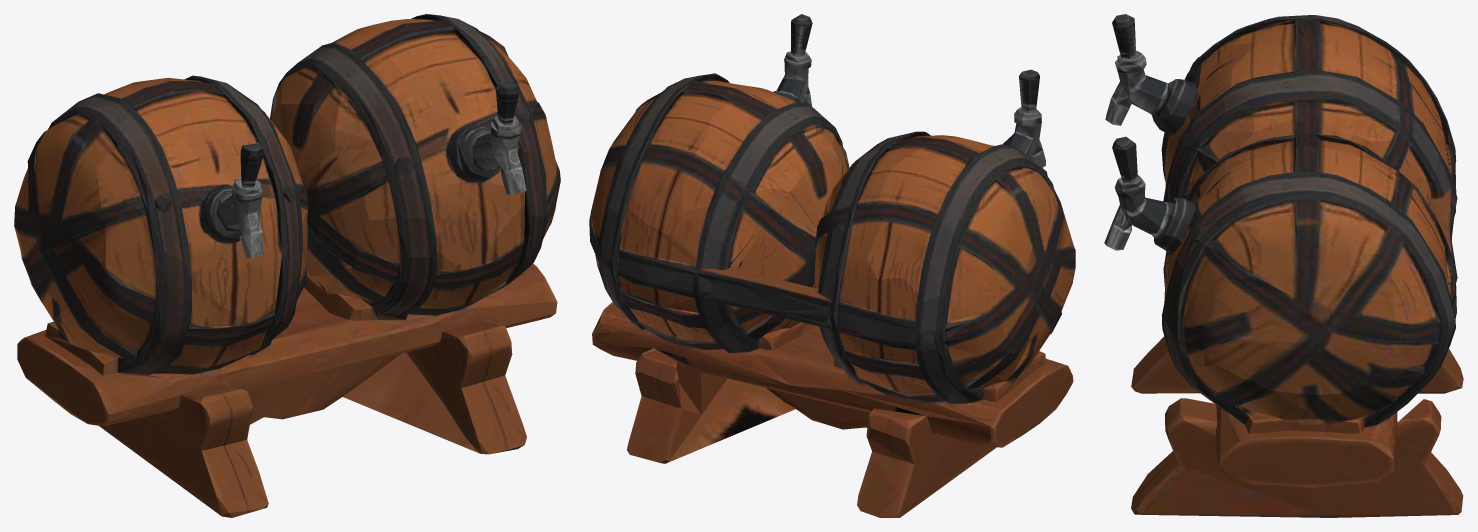
Rendered from keg-rack.glb.
3 renders of one model, left to right at view 1: azimuth 30°, elevation 25°; view 2: azimuth 150°, elevation 25°; view 3: azimuth 270°, elevation 25°, orthographic. The views are drawn at different scales.
Parts seen in each view (by area): view 1: output_unwrapped; view 2: output_unwrapped; view 3: output_unwrapped.
Boxes of the visible parts, bbox=[...] form: output_unwrapped: bbox=[14, 14, 560, 517]; output_unwrapped: bbox=[589, 14, 1075, 517]; output_unwrapped: bbox=[1104, 14, 1463, 517].
Size of the model in its own units: 1.9 by 1.43 by 1.27.
1 material, 1 textured.
